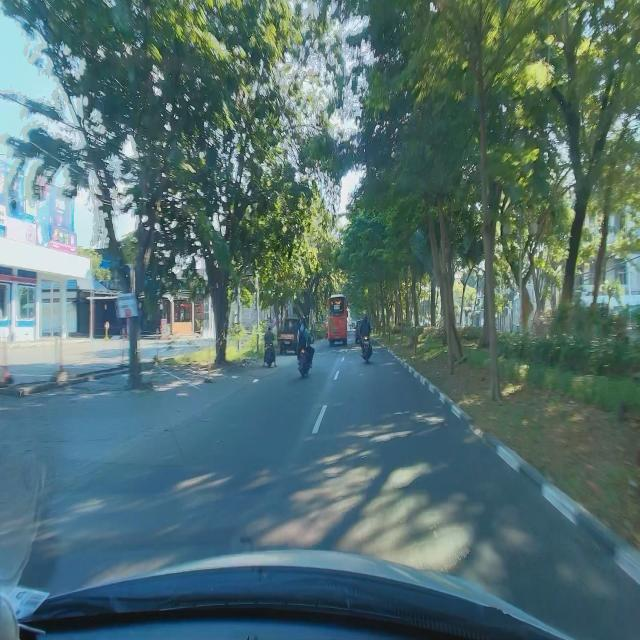bus: (327, 292, 348, 345)
